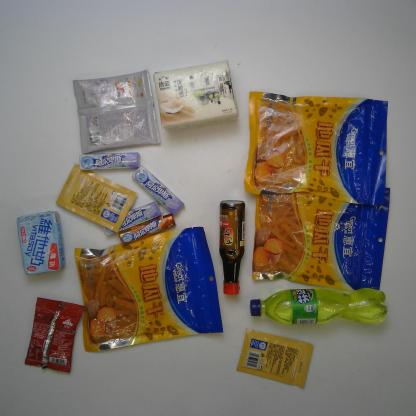Candy: (131, 164, 187, 216), (94, 200, 164, 237), (116, 213, 175, 243), (78, 146, 141, 173)
Dried Fruit: (70, 224, 224, 356), (245, 91, 394, 208), (248, 181, 394, 294)
Drink: (249, 282, 391, 328)
Instant Drink: (69, 69, 162, 155), (23, 294, 88, 377)
Milk: (15, 206, 66, 278)
Seasoner: (51, 162, 138, 235), (237, 325, 315, 390), (216, 196, 248, 298)
Tissue: (154, 58, 240, 132)
